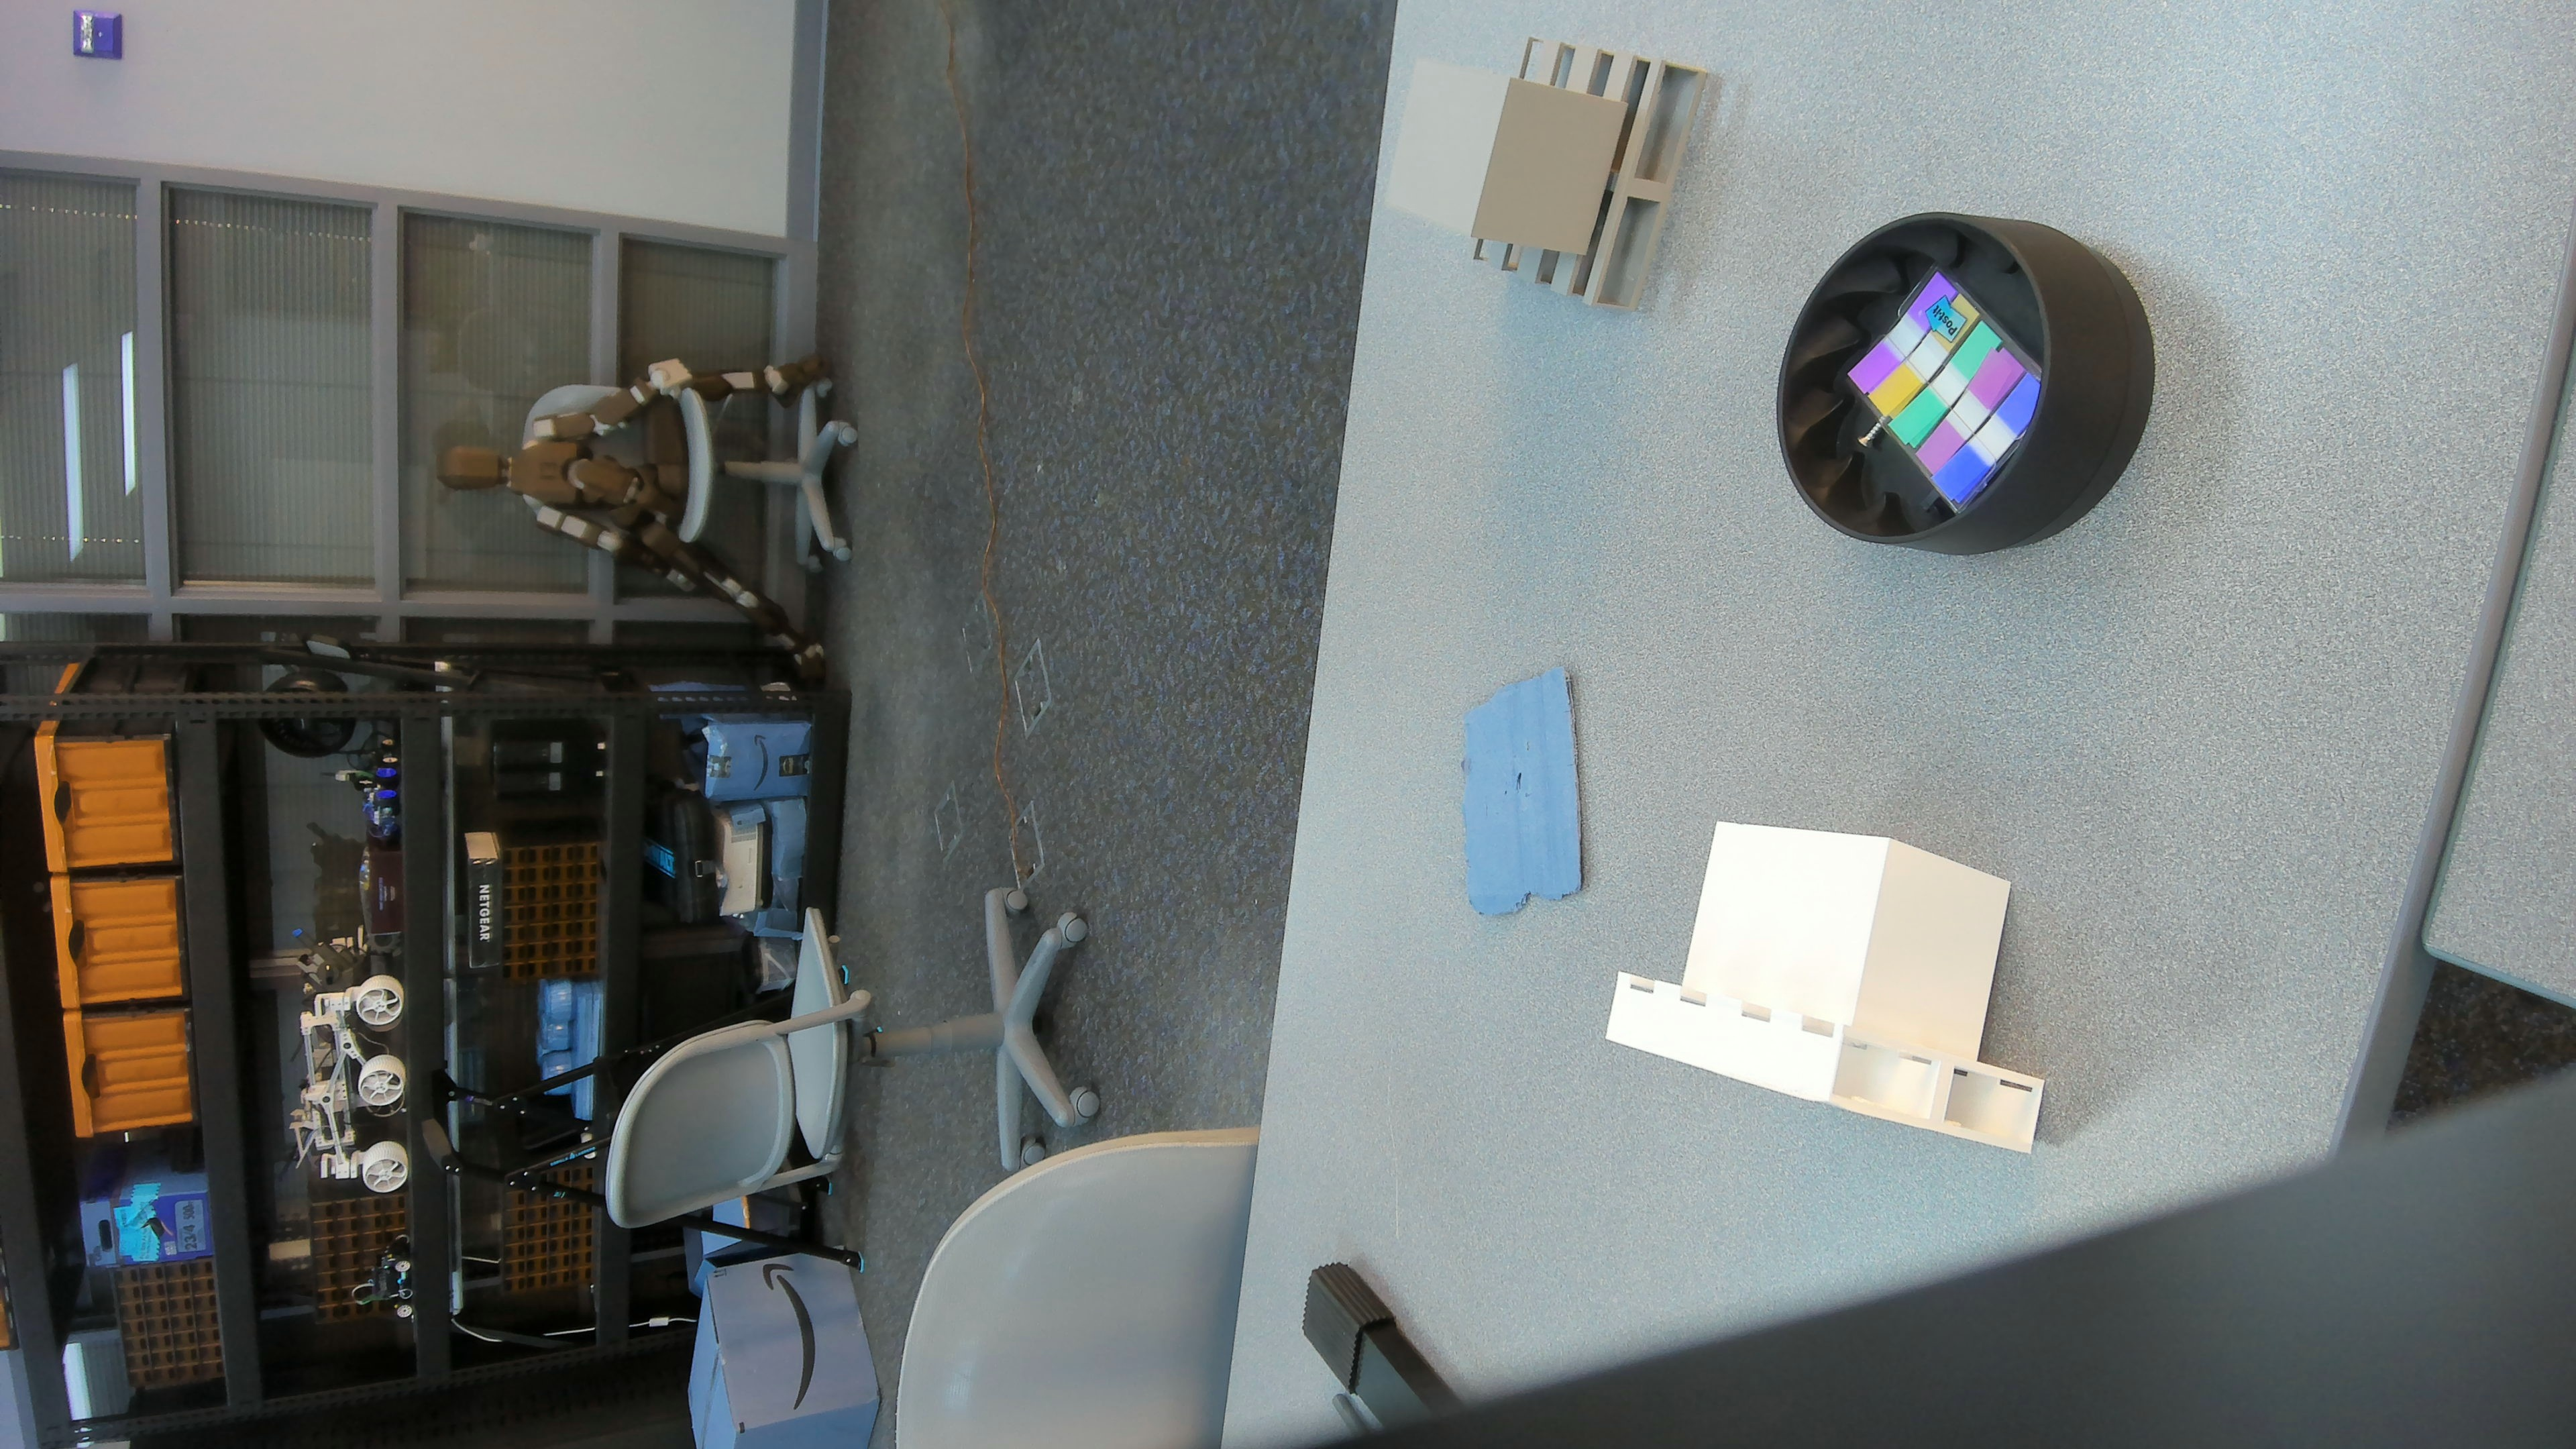grey pallet: (1373, 27, 1723, 336)
white pallet: (1587, 801, 2065, 1182)
